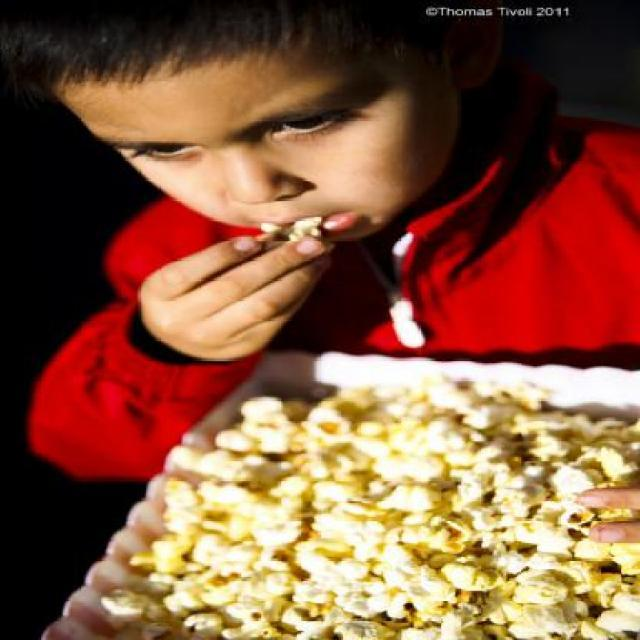Popcorn: (106, 394, 639, 638)
